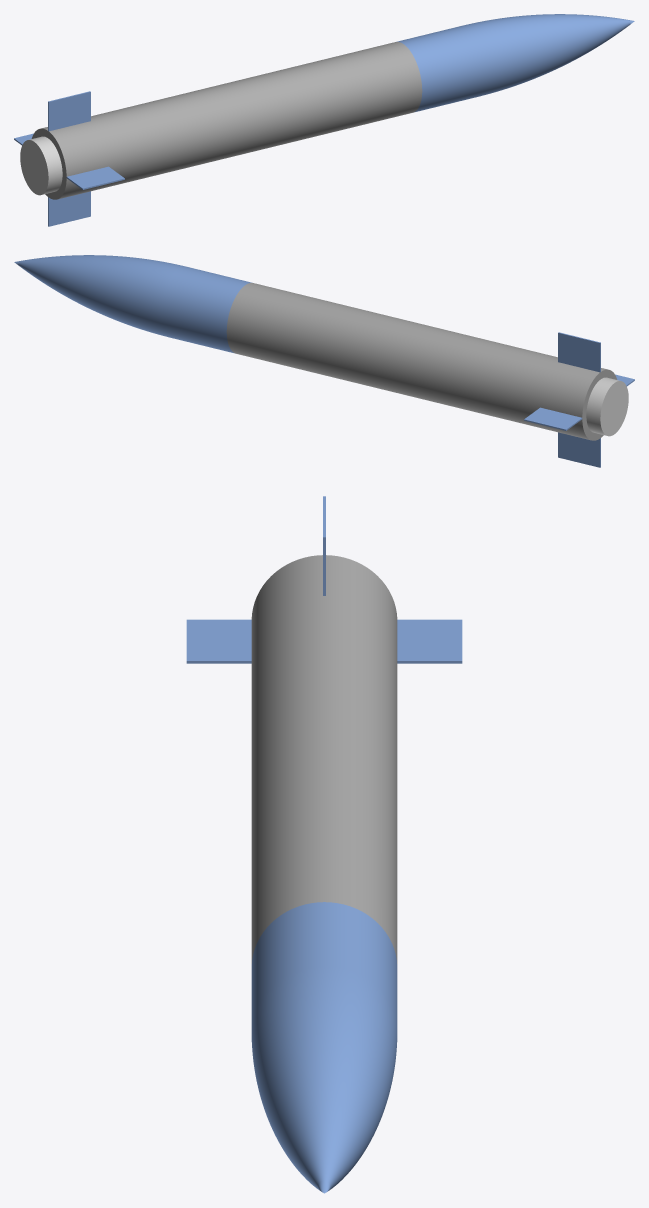
The model's file is LAD4.gltf.
The picture shows the model from 3 angles, top to bottom: view 1: azimuth 30°, elevation 25°; view 2: azimuth 150°, elevation 25°; view 3: azimuth 270°, elevation 25°; orthographic projection. The views are drawn at different scales.
Parts seen in each view (by area): view 1: mesh31_meshnode_31, mesh27_meshnode_27, mesh28_meshnode_28, mesh13_meshnode_13, mesh26_meshnode_26, mesh3_meshnode_3, mesh25_meshnode_25, mesh21_meshnode_21, mesh30_meshnode_30; view 2: mesh31_meshnode_31, mesh27_meshnode_27, mesh28_meshnode_28, mesh15_meshnode_15, mesh26_meshnode_26, mesh1_meshnode_1, mesh25_meshnode_25, mesh7_meshnode_7, mesh30_meshnode_30; view 3: mesh31_meshnode_31, mesh27_meshnode_27, mesh28_meshnode_28, mesh7_meshnode_7, mesh21_meshnode_21.
Boxes of the visible parts, bbox=[...] form: mesh31_meshnode_31: bbox=[41, 42, 422, 199]; mesh27_meshnode_27: bbox=[462, 14, 634, 96]; mesh28_meshnode_28: bbox=[396, 26, 487, 112]; mesh13_meshnode_13: bbox=[48, 92, 90, 131]; mesh26_meshnode_26: bbox=[20, 140, 48, 195]; mesh3_meshnode_3: bbox=[48, 191, 90, 226]; mesh25_meshnode_25: bbox=[29, 136, 62, 194]; mesh21_meshnode_21: bbox=[67, 166, 124, 188]; mesh30_meshnode_30: bbox=[31, 128, 66, 199]; mesh31_meshnode_31: bbox=[226, 283, 607, 440]; mesh27_meshnode_27: bbox=[14, 255, 186, 337]; mesh28_meshnode_28: bbox=[161, 267, 252, 353]; mesh15_meshnode_15: bbox=[558, 333, 600, 372]; mesh26_meshnode_26: bbox=[600, 381, 628, 436]; mesh1_meshnode_1: bbox=[558, 432, 600, 467]; mesh25_meshnode_25: bbox=[586, 377, 619, 435]; mesh7_meshnode_7: bbox=[524, 407, 581, 429]; mesh30_meshnode_30: bbox=[582, 369, 617, 440]; mesh31_meshnode_31: bbox=[251, 555, 397, 963]; mesh27_meshnode_27: bbox=[251, 966, 397, 1193]; mesh28_meshnode_28: bbox=[251, 902, 397, 1026]; mesh7_meshnode_7: bbox=[397, 619, 462, 660]; mesh21_meshnode_21: bbox=[186, 619, 251, 660].
Size of the model in its own units: 2.17 by 0.4318 by 0.4318.
